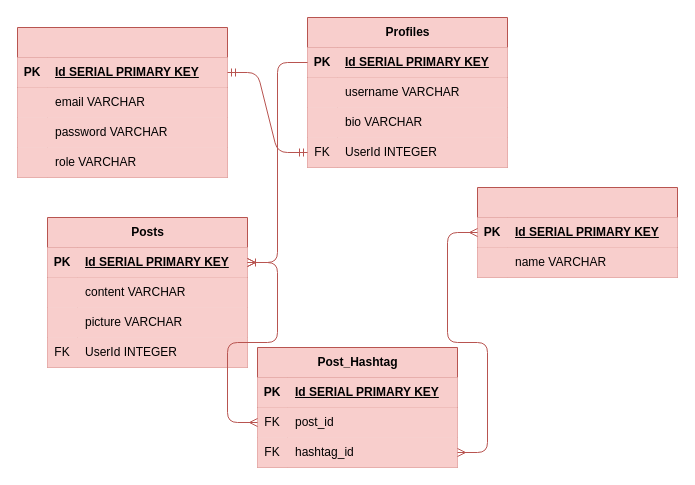
Some shapes in this 695 by 485 pixel diagram are drawn without their labels. Each missing label, with the box of its shape:
Hashtags: (476, 186, 678, 278)
Users: (16, 26, 228, 178)
